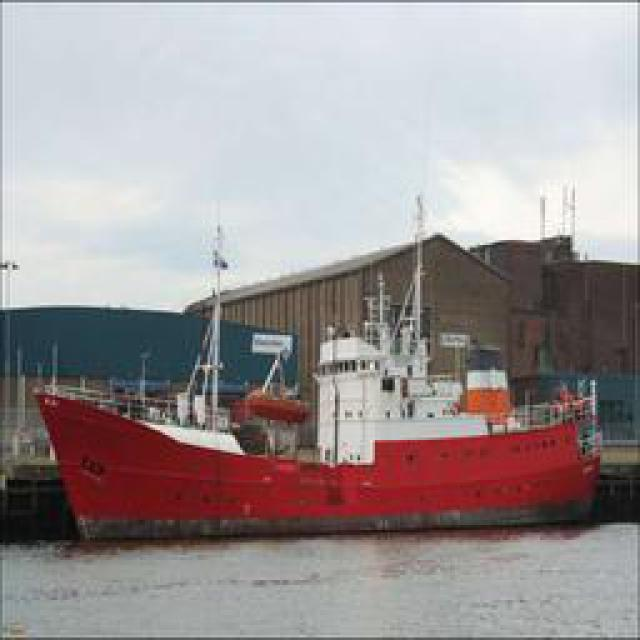Ship: (30, 220, 605, 530)
